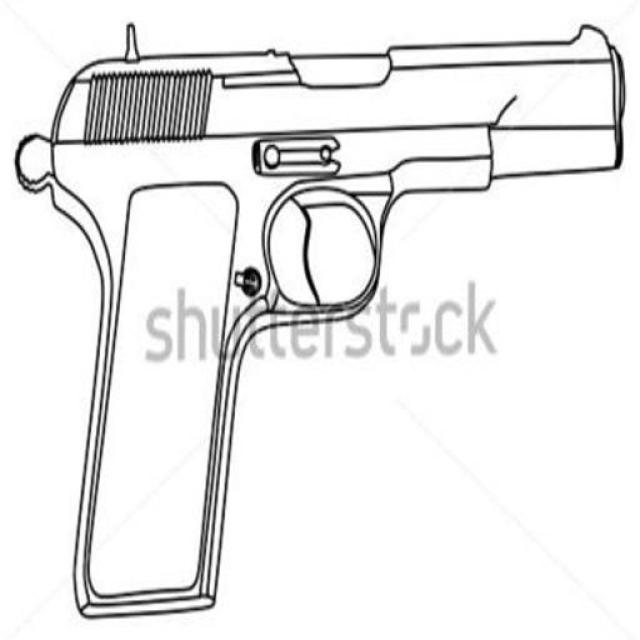pistol: (10, 4, 616, 615)
